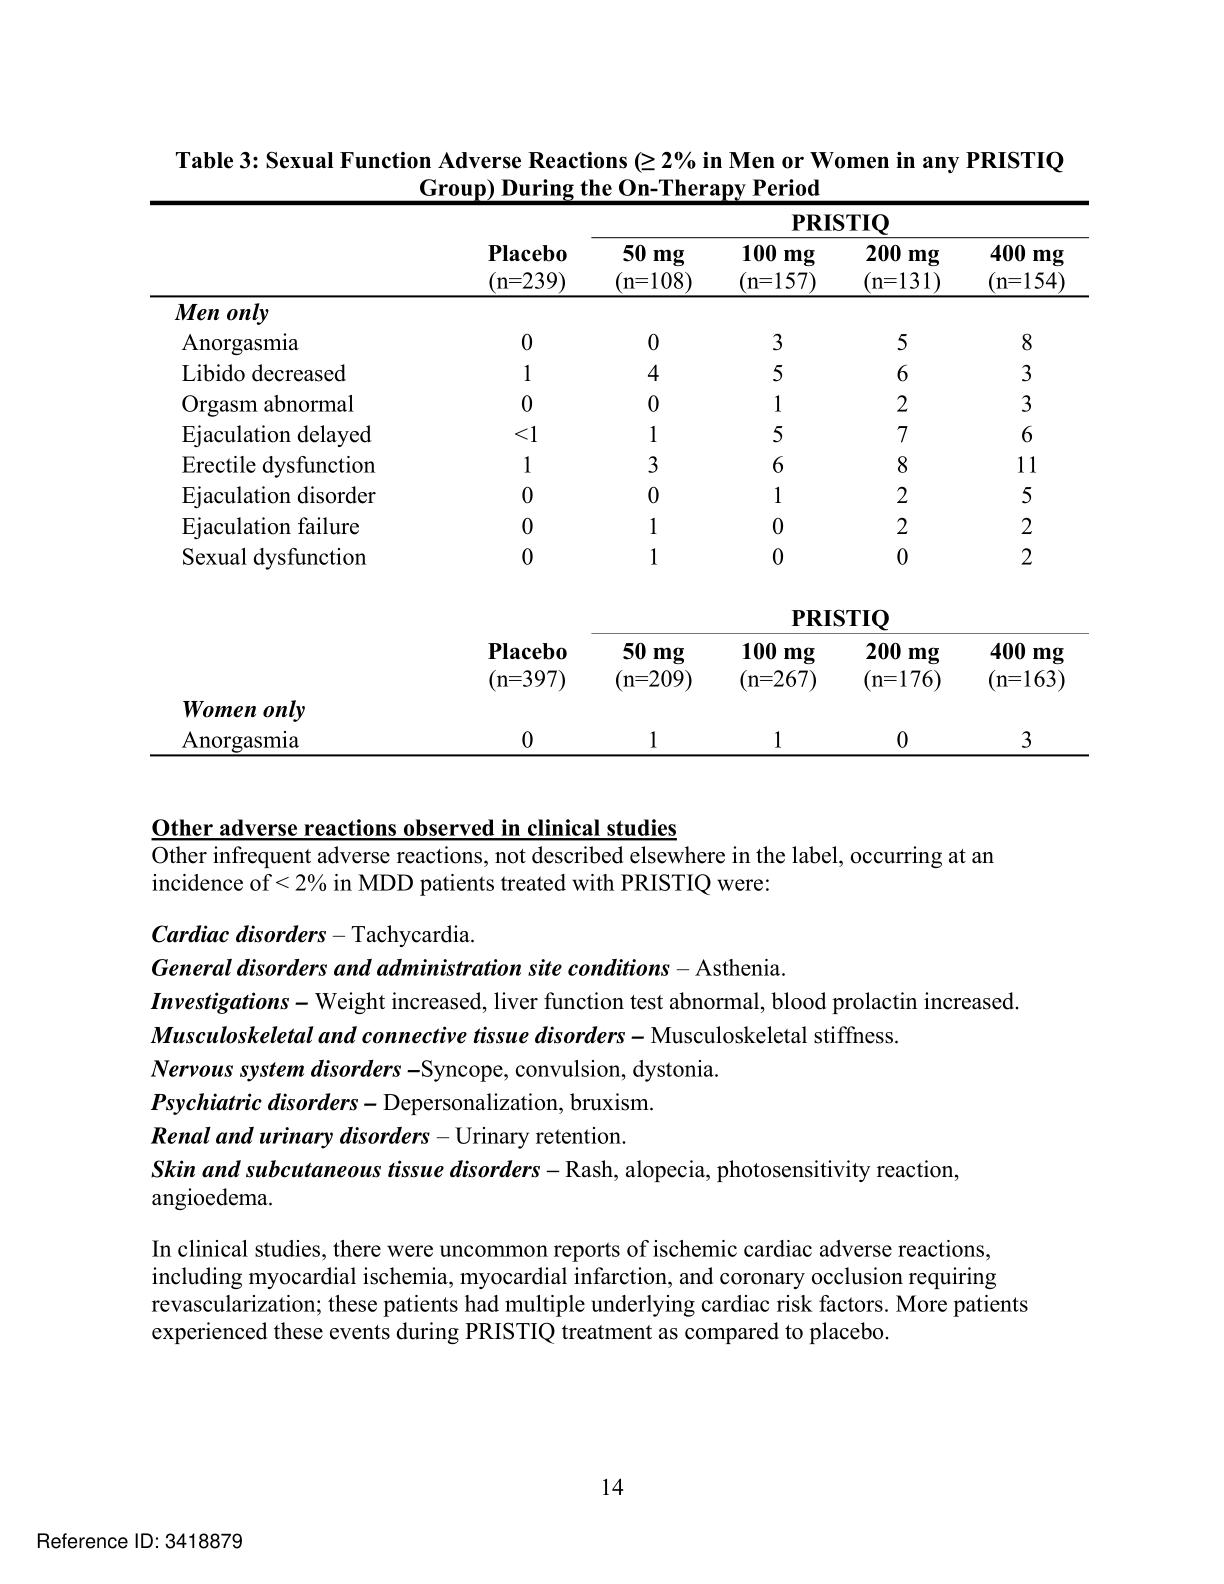partial_lined_merged_cells: (148, 199, 1092, 759)
